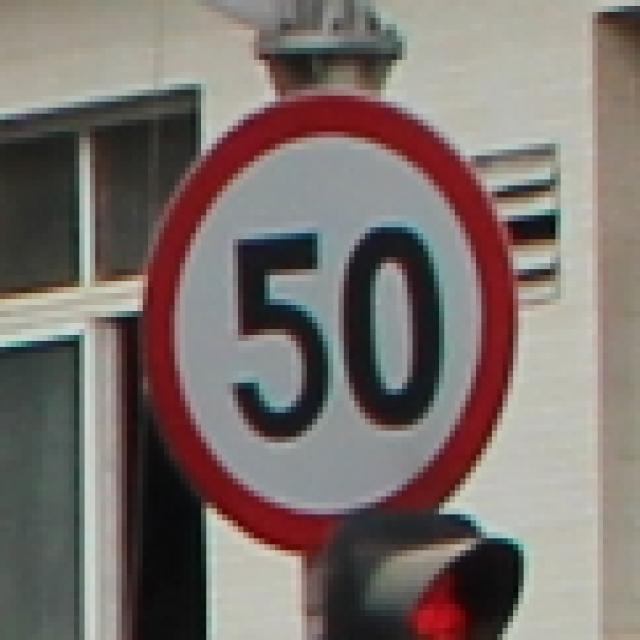Limite-50: (138, 91, 520, 554)
